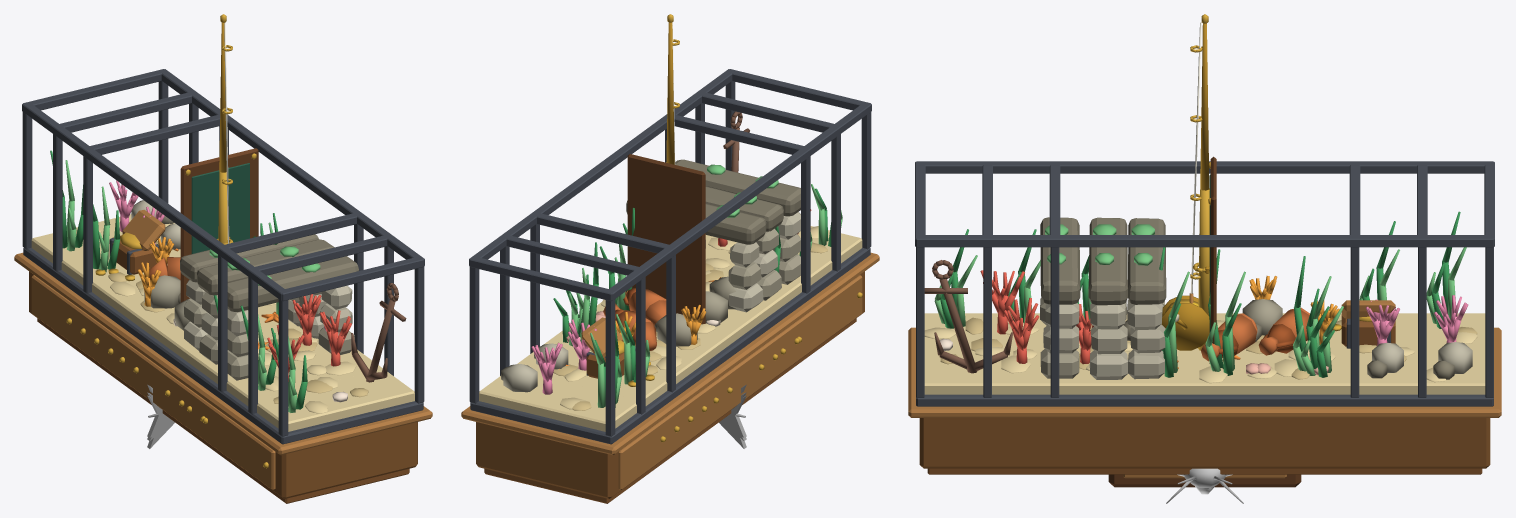
The model's file is aquarium.glb.
3 renders of one model, left to right at view 1: azimuth 30°, elevation 25°; view 2: azimuth 150°, elevation 25°; view 3: azimuth 270°, elevation 25°, orthographic. The views are drawn at different scales.
Parts seen in each view (by area): view 1: aq_meuble.002, aq_sable.002, aq_socle.002, trophee_canne_fond, aq_plateau.002, aq_sable.001, aq_sable, trophee_canne_planche, aq_arche.020, aq_bord.009, aq_porte.011, aq_bord.008 (+46 smaller); view 2: trophee_canne_planche, aq_meuble.002, aq_sable.002, aq_socle.002, aq_plateau.002, aq_sable, aq_sable.001, aq_bord.009, aq_arche.020, aq_porte.007, aq_bord.001, aq_bord.008 (+42 smaller); view 3: aq_meuble.002, aq_sable, aq_plateau.002, aq_sable.002, aq_sable.001, aq_socle.002, aq_bord.005, aq_socle.001, aq_bord.004, aq_plinthe.001, aq_arche.013, aq_bord.009 (+40 smaller).
Boxes of the visible parts, <box> form: aq_meuble.002: <box>29,271,417,498</box>; aq_sable.002: <box>31,214,414,431</box>; aq_socle.002: <box>23,248,423,444</box>; trophee_canne_fond: <box>191,163,249,253</box>; aq_plateau.002: <box>14,252,432,455</box>; aq_sable.001: <box>61,236,382,403</box>; aq_sable: <box>92,265,328,378</box>; trophee_canne_planche: <box>180,148,258,302</box>; aq_arche.020: <box>227,256,358,312</box>; aq_bord.009: <box>159,69,424,265</box>; aq_porte.011: <box>228,419,275,489</box>; aq_bord.008: <box>22,102,287,300</box>; trophee_canne_planche: <box>627,154,705,324</box>; aq_meuble.002: <box>476,271,864,498</box>; aq_sable.002: <box>479,226,862,431</box>; aq_socle.002: <box>470,248,870,444</box>; aq_plateau.002: <box>461,252,879,455</box>; aq_sable: <box>544,259,800,383</box>; aq_sable.001: <box>517,235,831,399</box>; aq_bord.009: <box>469,69,734,265</box>; aq_arche.020: <box>675,159,800,216</box>; aq_porte.007: <box>618,419,665,489</box>; aq_bord.001: <box>530,114,667,215</box>; aq_bord.008: <box>606,102,871,300</box>; aq_meuble.002: <box>919,418,1490,468</box>; aq_sable: <box>1059,313,1350,394</box>; aq_plateau.002: <box>908,327,1501,417</box>; aq_sable.002: <box>924,313,1485,394</box>; aq_sable.001: <box>992,313,1417,394</box>; aq_socle.002: <box>916,394,1493,406</box>; aq_bord.005: <box>984,239,1425,246</box>; aq_socle.001: <box>985,399,1424,406</box>; aq_bord.004: <box>992,165,1417,173</box>; aq_plinthe.001: <box>997,468,1412,474</box>; aq_arche.013: <box>1088,217,1127,305</box>; aq_bord.009: <box>916,235,1493,247</box>.
Bounding box in the file's own units: 1.1 × 2.72 × 3.08.
